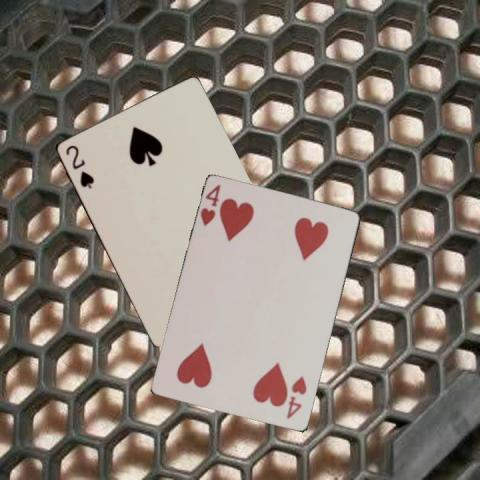2s: (62, 142, 95, 190)
4h: (283, 373, 309, 421), (197, 181, 222, 229)
